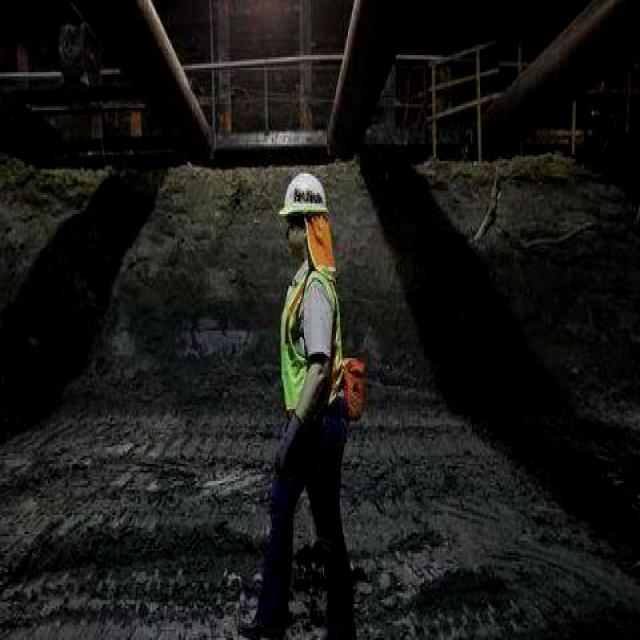hand_glove: (272, 409, 301, 481)
head_helmet: (276, 172, 332, 216)
person: (260, 167, 348, 638)
vest: (277, 262, 339, 425)
